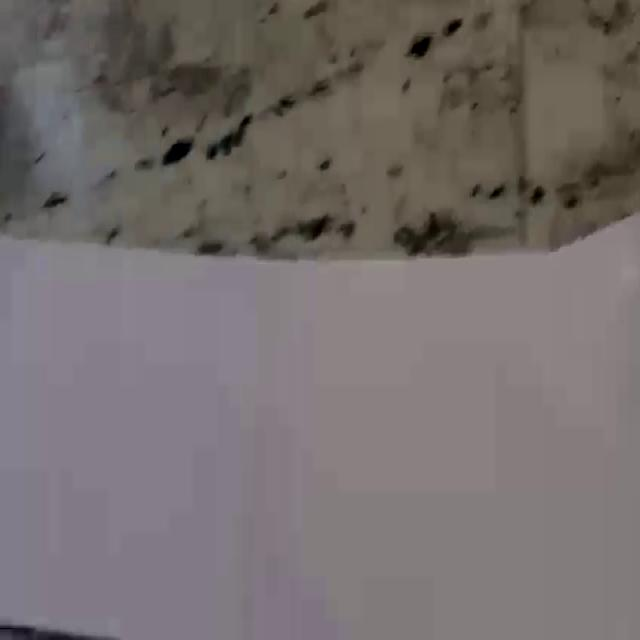road: (0, 212, 640, 640)
